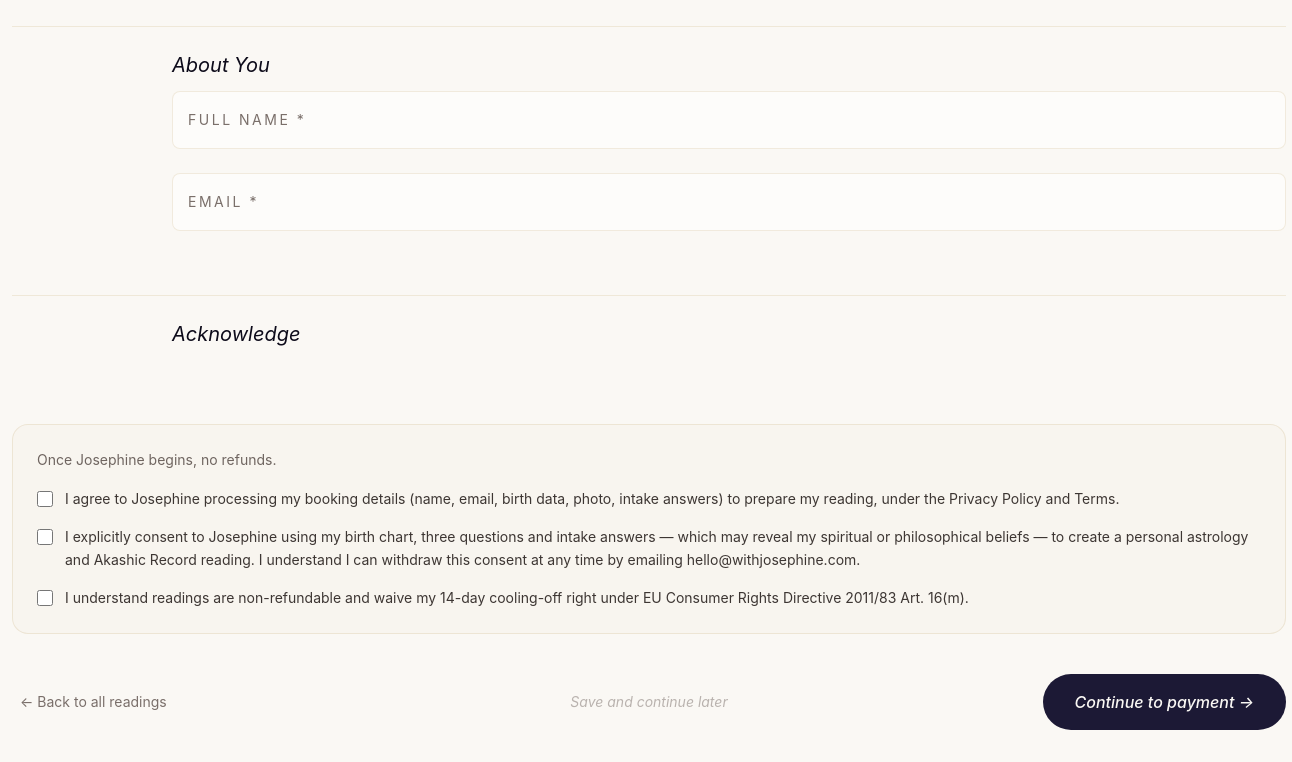
IntakeForm — single-page flow › shows what is missing without the loader when Continue is clicked with consents unchecked
The image size is (1292, 762).
Type "Ada Lovelace" into the field labelled "Full name *". click: (729, 120)
box: top-left (172, 91), bottom-right (1286, 149)
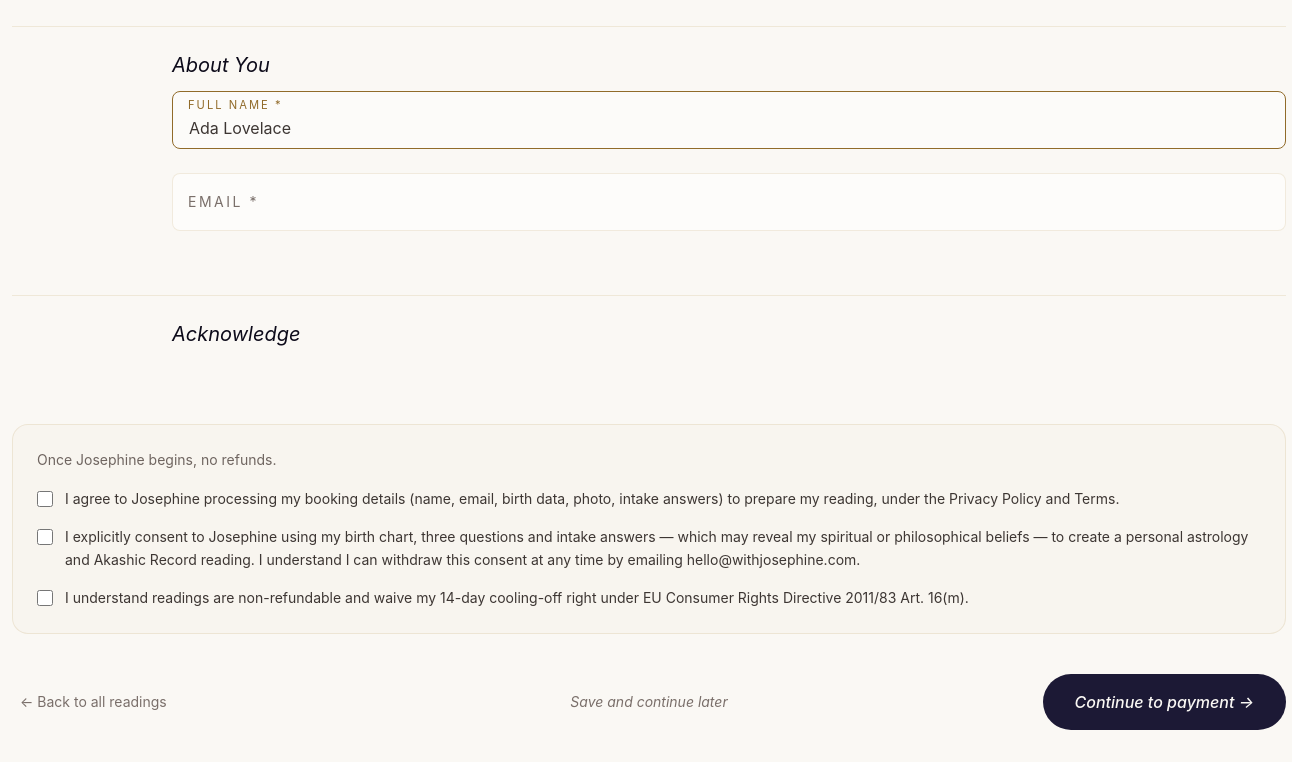
Type "ada@example.com" into the field labelled "Email *". click: (729, 202)
box: top-left (172, 173), bottom-right (1286, 231)
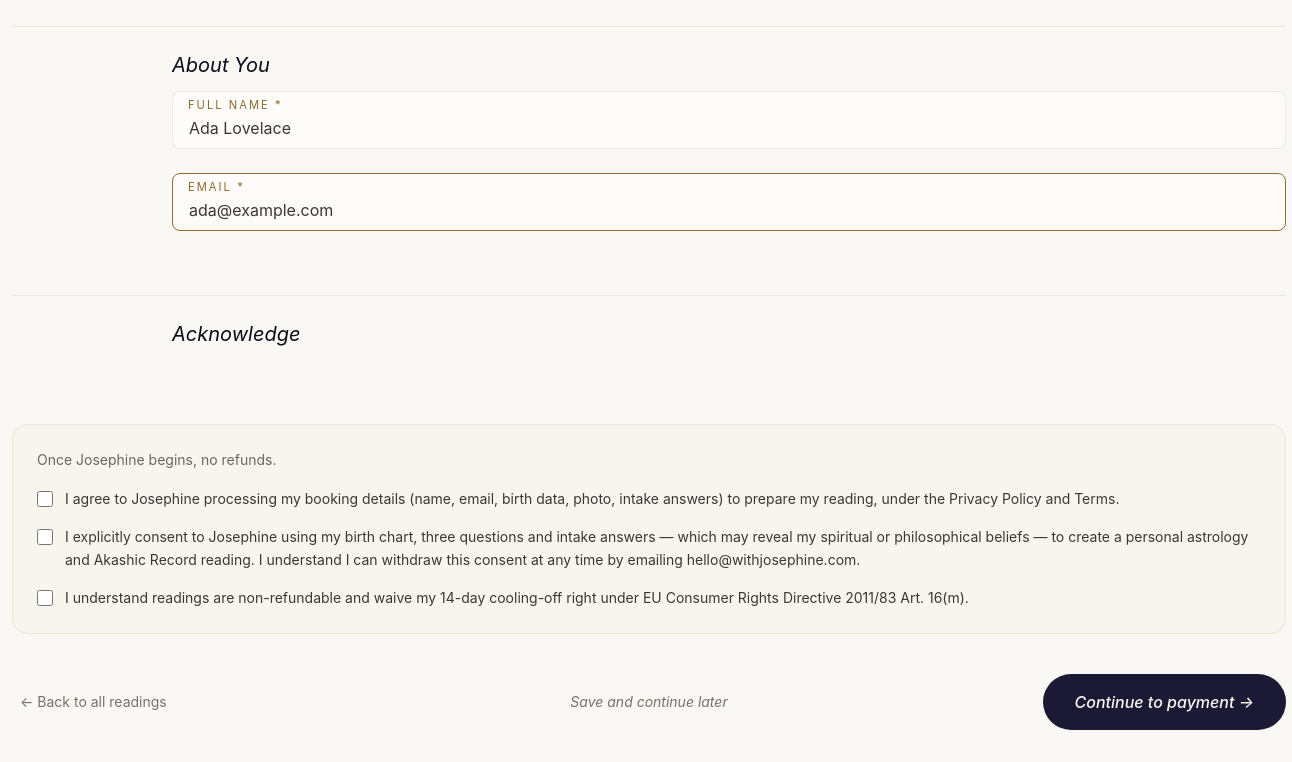
Click the button "Continue to payment →". click: click(1164, 702)
box: top-left (1042, 674), bottom-right (1286, 730)
(page scrolled)
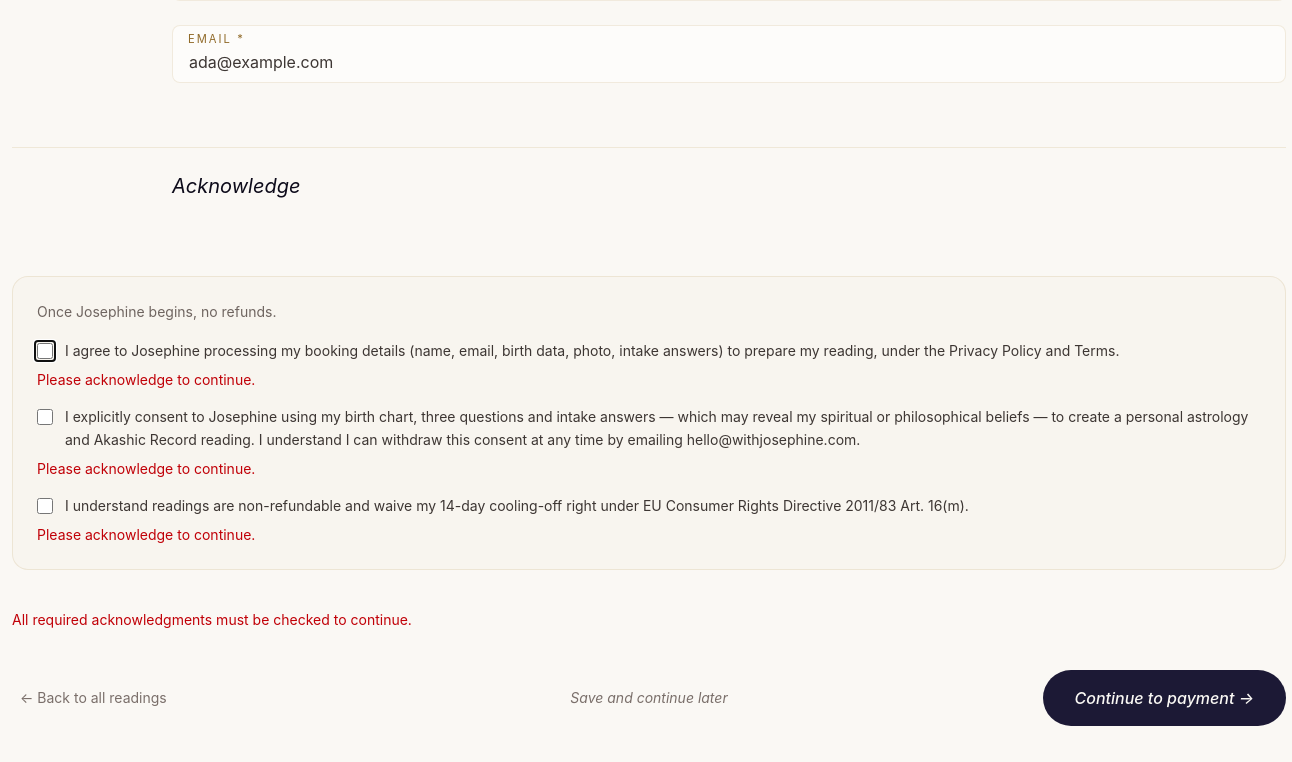
Expected: the text "All required acknowledgments must be checked to continue." is shown, top-left (12, 611), bottom-right (412, 628)
